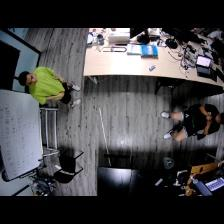normal: (17, 64, 81, 107), (162, 105, 224, 141)
